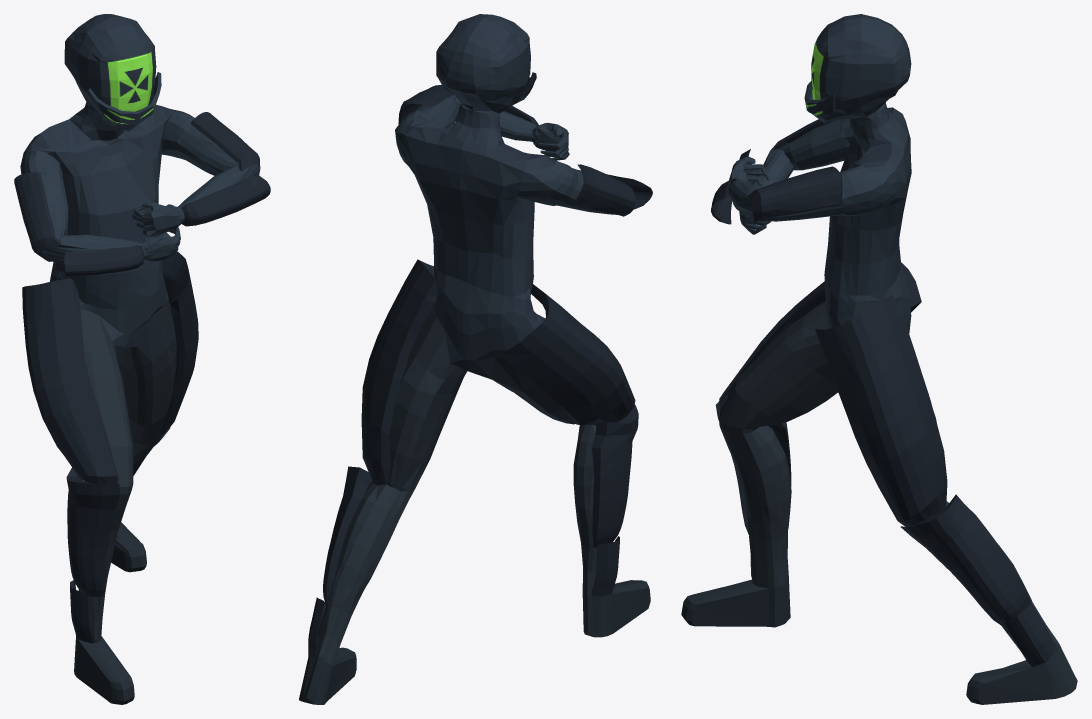
Rendered from Bastion_Hit_Recover_000017.obj.
The picture shows the model from 3 angles, left to right: view 1: azimuth 30°, elevation 25°; view 2: azimuth 150°, elevation 25°; view 3: azimuth 270°, elevation 25°; orthographic projection. The views are drawn at different scales.
Parts seen in each view (by area): view 1: Cube.002; view 2: Cube.002; view 3: Cube.002.
Part boxes in pixels (<box>): Cube.002: <box>14,14,270,704</box>; Cube.002: <box>299,14,652,704</box>; Cube.002: <box>681,14,1077,704</box>.
Size of the model in its own units: 1.32 by 3.6 by 2.02.
